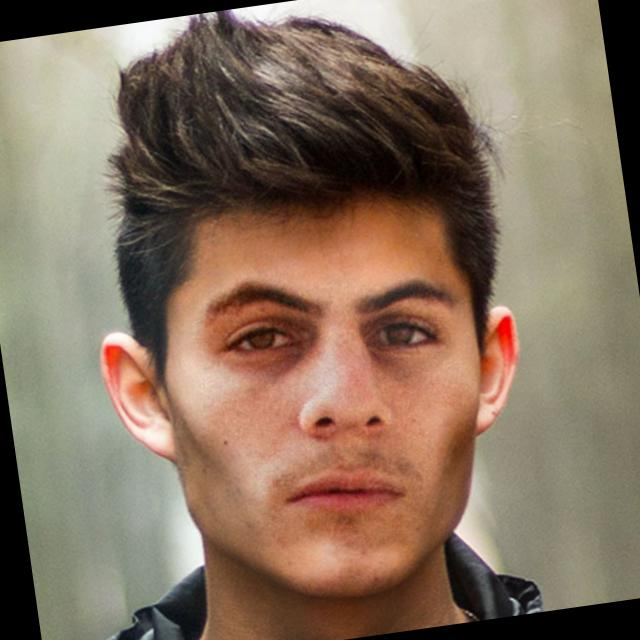face: (77, 132, 582, 629)
